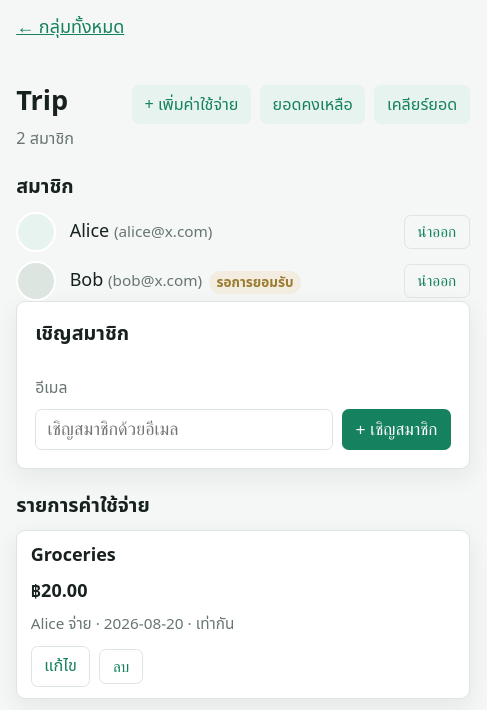
Test: GroupDetailPage › requires a confirm click before deleting an expense, then removes it
expect the text "Groceries" is shown: met, box x1=31 y1=542 x2=116 y2=569
Click the button "ลบ" at (121, 667), box x1=99 y1=649 x2=143 y2=684
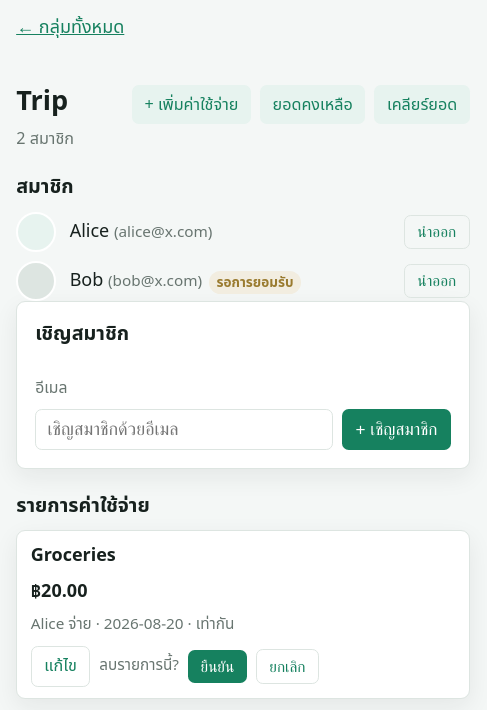
expect the text "Groceries" is shown: met, box x1=31 y1=542 x2=116 y2=569
expect the text "ลบรายการนี้?" is shown: met, box x1=99 y1=654 x2=179 y2=677
Click the button "ยืนยัน" at (217, 667), box x1=188 y1=650 x2=247 y2=683
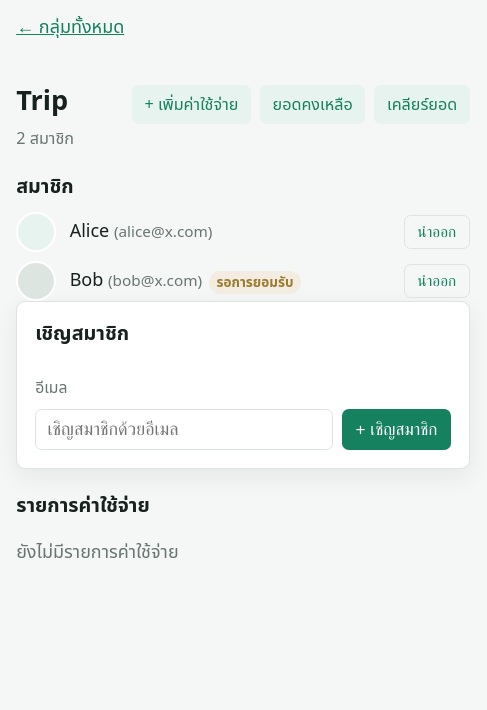
expect the text "ยังไม่มีรายการค่าใช้จ่าย" is shown: met, box x1=16 y1=540 x2=179 y2=566
expect the text "Groceries" is gone: met
